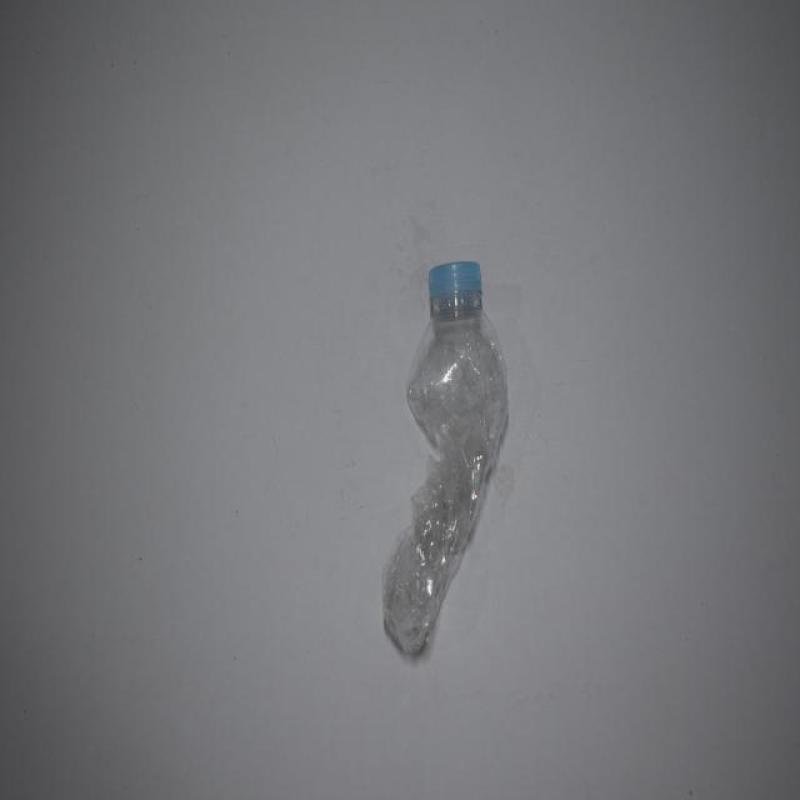botella: (381, 262, 511, 656)
